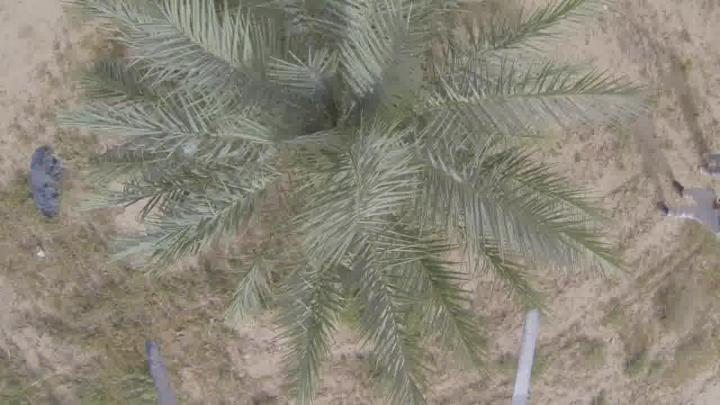Date-Palm-Crown: (173, 18, 486, 280)
